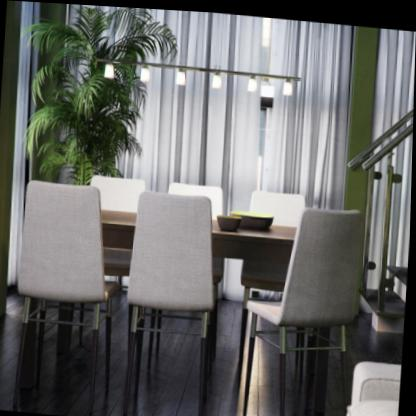Chair: (240, 194, 370, 416), (9, 175, 127, 416)
